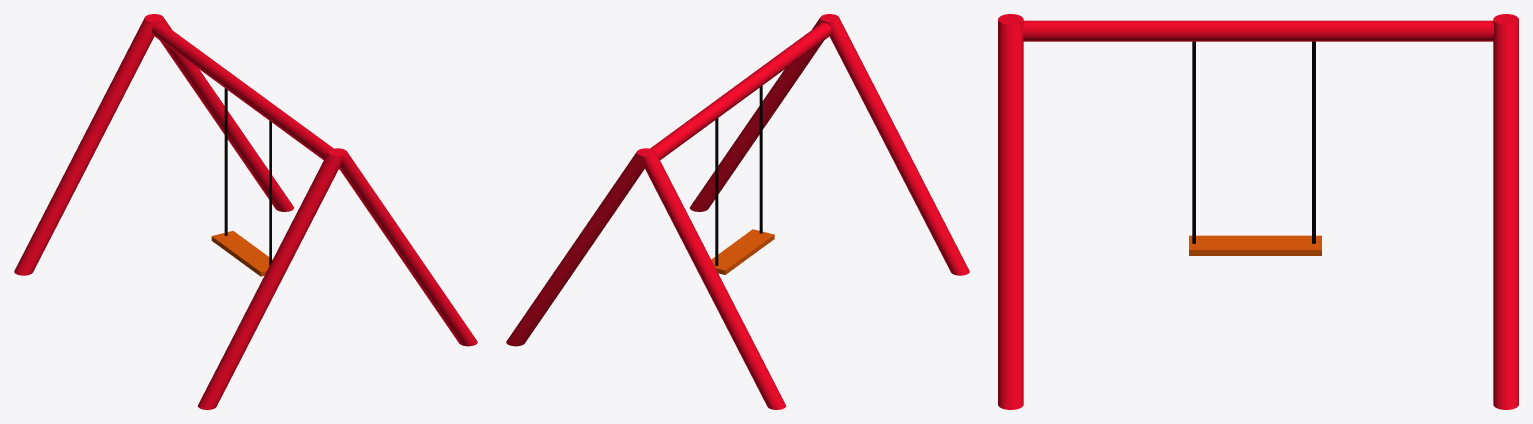
The model's file is play_swing_b.glb.
The picture shows the model from 3 angles, left to right: view 1: azimuth 30°, elevation 25°; view 2: azimuth 150°, elevation 25°; view 3: azimuth 270°, elevation 25°; orthographic projection. The views are drawn at different scales.
Visible parts, largest first — view 1: Swing, SwingSeat; view 2: Swing, SwingSeat; view 3: Swing, SwingSeat.
Part boxes in pixels (<box>): Swing: <box>14,14,477,409</box>; SwingSeat: <box>211,88,272,276</box>; Swing: <box>506,14,969,409</box>; SwingSeat: <box>711,85,774,274</box>; Swing: <box>998,14,1518,409</box>; SwingSeat: <box>1189,41,1321,255</box>.
Size of the model in its own units: 3.4 by 2.6 by 4.1.
